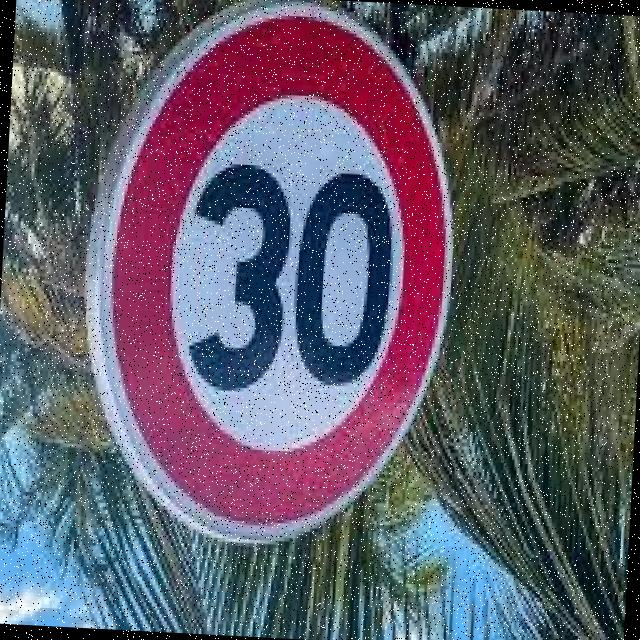speed_limit_30: (56, 0, 470, 564)
